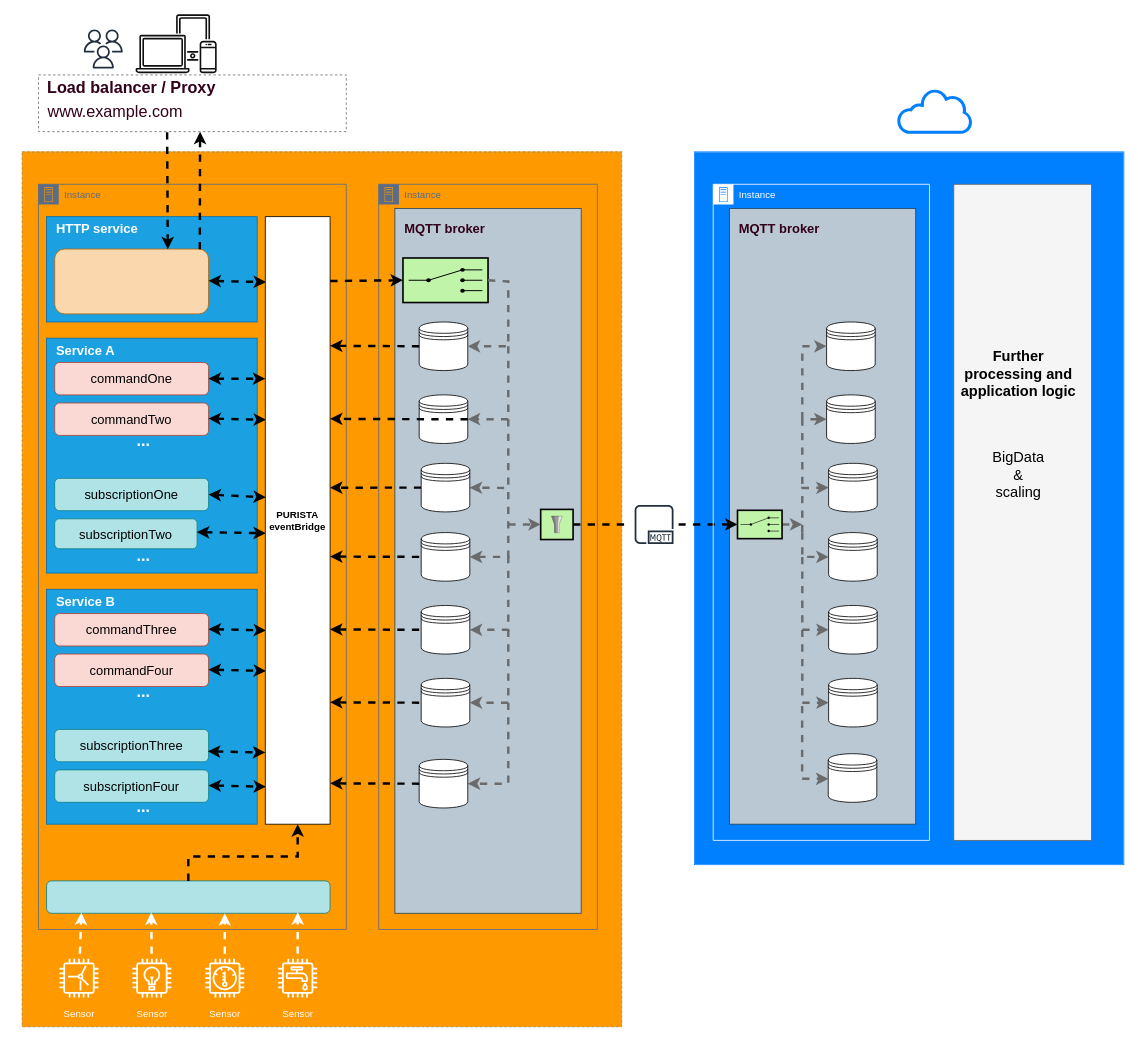
The diagram is 1138 pixels wide and 1041 high, and some of its shapes have lost their labels. The shapes that lost their labels are listed below. From the top down, each one's box as (x1, y1, x2, y2) in pixels, then its label:
(54, 248, 209, 314): handler
(629, 499, 678, 549): partial data
(694, 151, 1124, 865): CLOUD
(21, 151, 622, 1027): EDGE DEVICE
(46, 880, 330, 913): Hardware-Adapter
